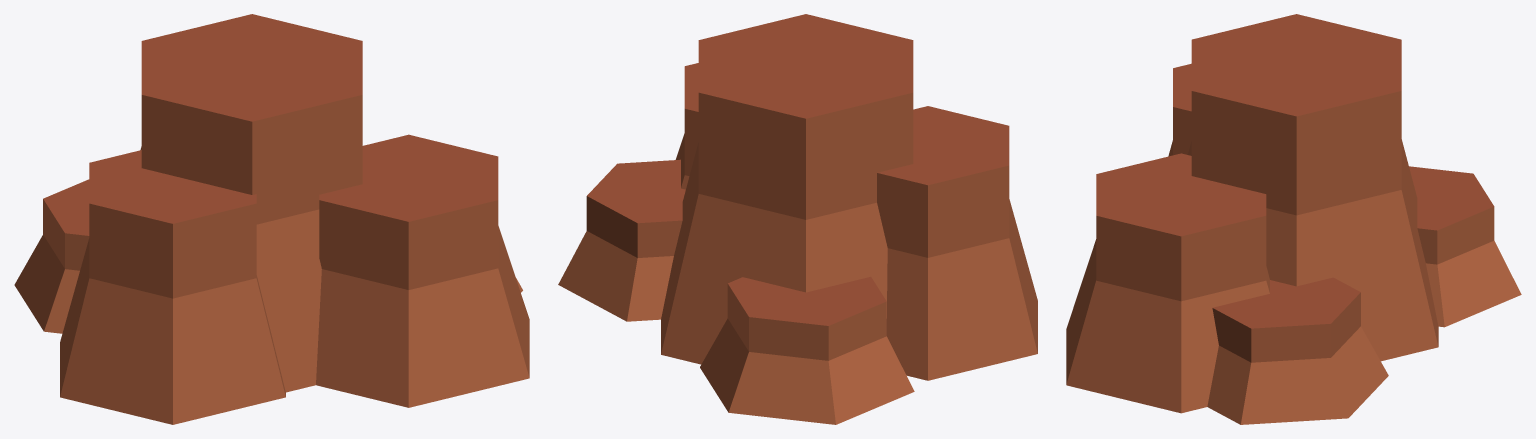
Rendered from Rock Large A.glb.
3 renders of one model, left to right at view 1: azimuth 30°, elevation 25°; view 2: azimuth 150°, elevation 25°; view 3: azimuth 270°, elevation 25°, orthographic. The views are drawn at different scales.
Parts seen in each view (by area): view 1: rock_largeA; view 2: rock_largeA; view 3: rock_largeA.
Part boxes in pixels (left/top/right/bottom): rock_largeA: left=14, top=14, right=529, bottom=424; rock_largeA: left=558, top=14, right=1037, bottom=424; rock_largeA: left=1066, top=14, right=1521, bottom=424.
Bounding box in the file's own units: 0.9193 × 0.5 × 0.8339.
